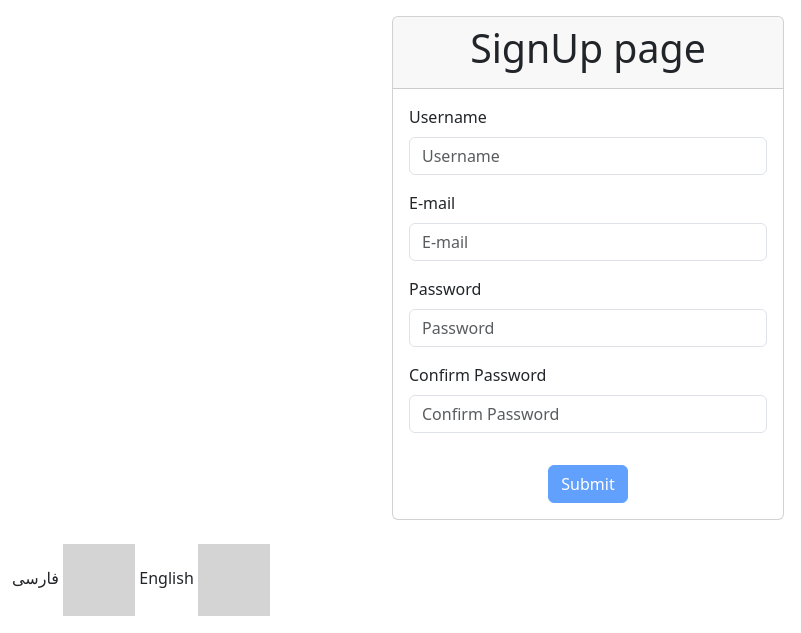
SignUp page › Internationalization › shows text in EN after selecting EN language
Click the element titled "فارسی". click: (74, 578)
box: [12,567,135,589]
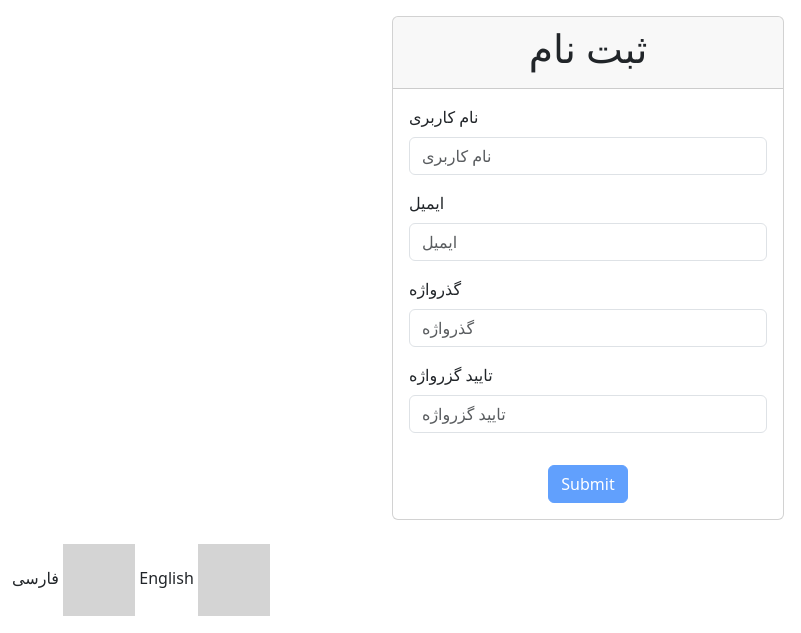
Click the element titled "English". click: (203, 578)
box: [135,567,270,589]
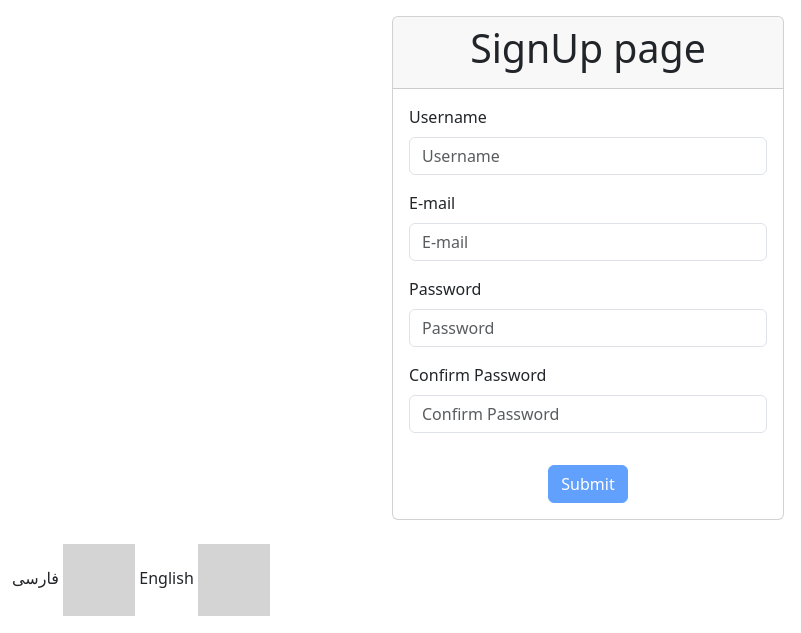
Expected: the heading "SignUp page" is shown, [470,21,706,75]
